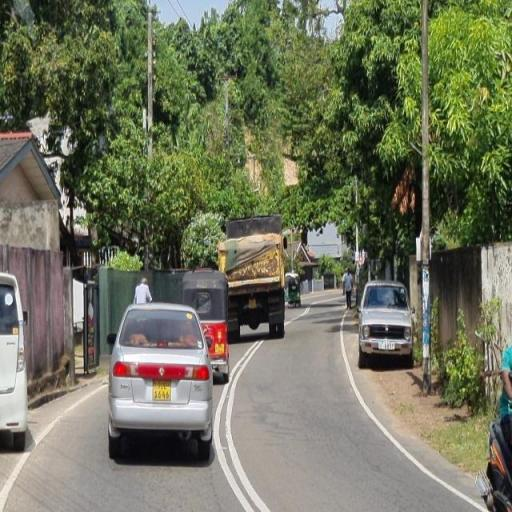double_white_line: (339, 326, 493, 511), (213, 339, 267, 512)
